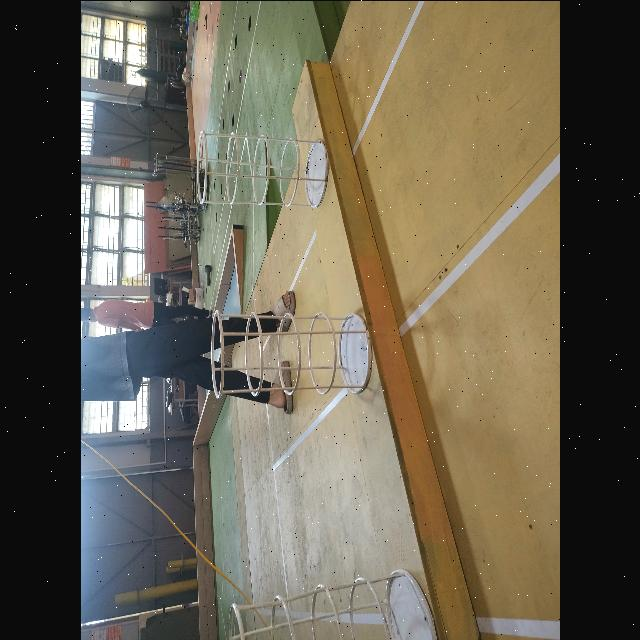S: (218, 570, 446, 640), (204, 307, 378, 397), (182, 124, 338, 210)
